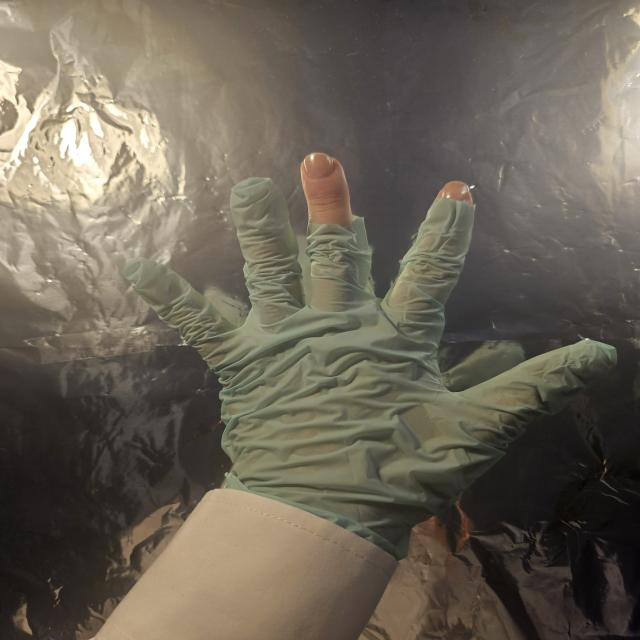gloves_damaged: (118, 150, 620, 559)
